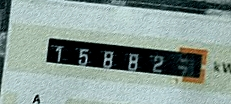1: (52, 43, 63, 62)
2: (150, 52, 164, 73)
5: (73, 45, 89, 66)
7: (174, 62, 187, 75)
8: (124, 49, 139, 72), (100, 47, 114, 69)
screen: (39, 29, 211, 88)
